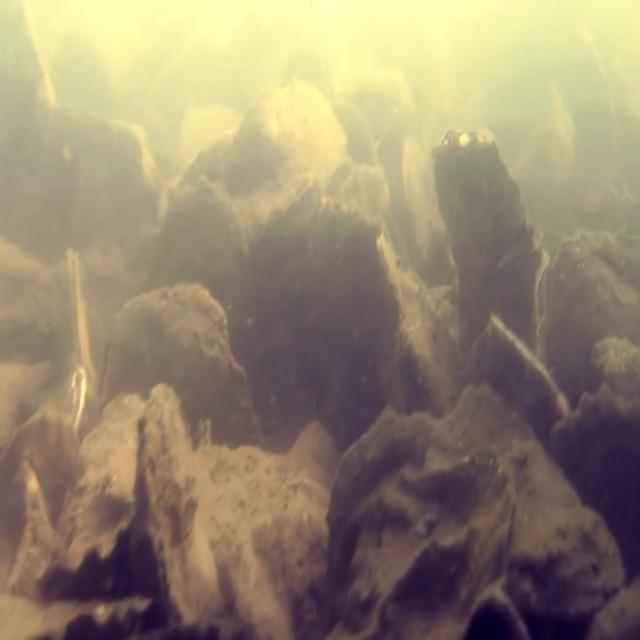Oyster-Closed: (140, 380, 222, 636), (535, 226, 640, 417), (66, 242, 101, 414)
Oyster-Indeterminate: (316, 380, 628, 639), (242, 171, 409, 459), (192, 414, 346, 639), (430, 124, 543, 387), (96, 278, 262, 453), (143, 175, 250, 371), (544, 377, 640, 594), (53, 393, 144, 559), (464, 313, 571, 447)
Oyster-Open: (16, 502, 152, 639)
